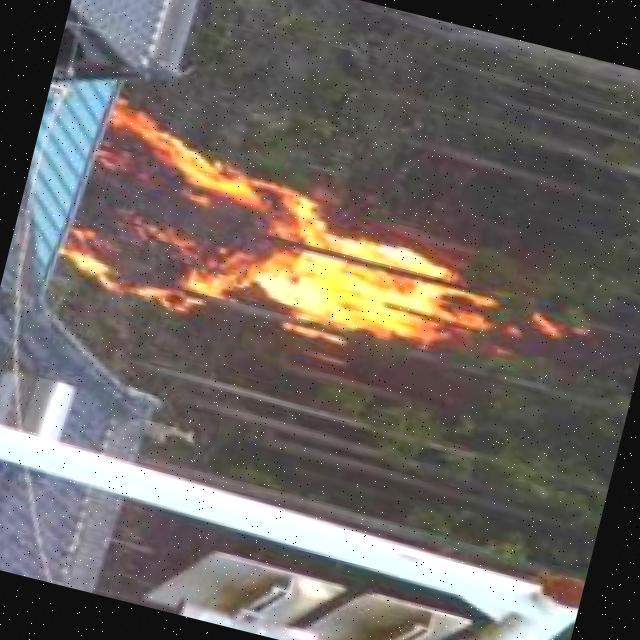fire: (54, 91, 532, 414)
